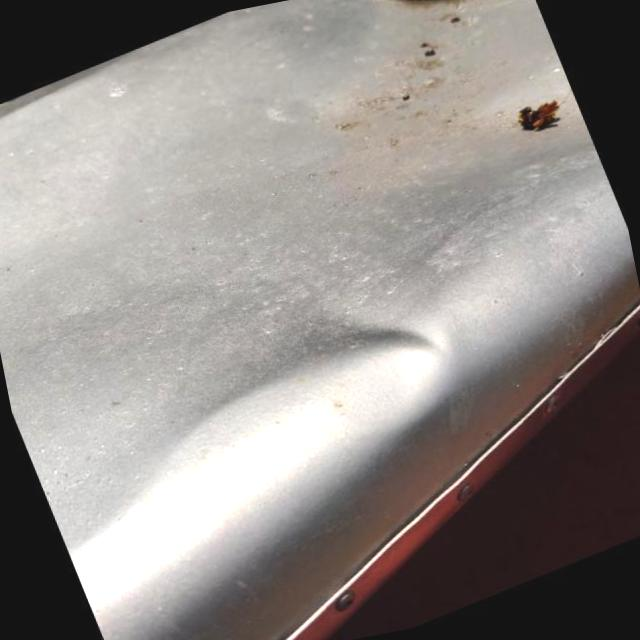dent: (277, 252, 464, 406)
